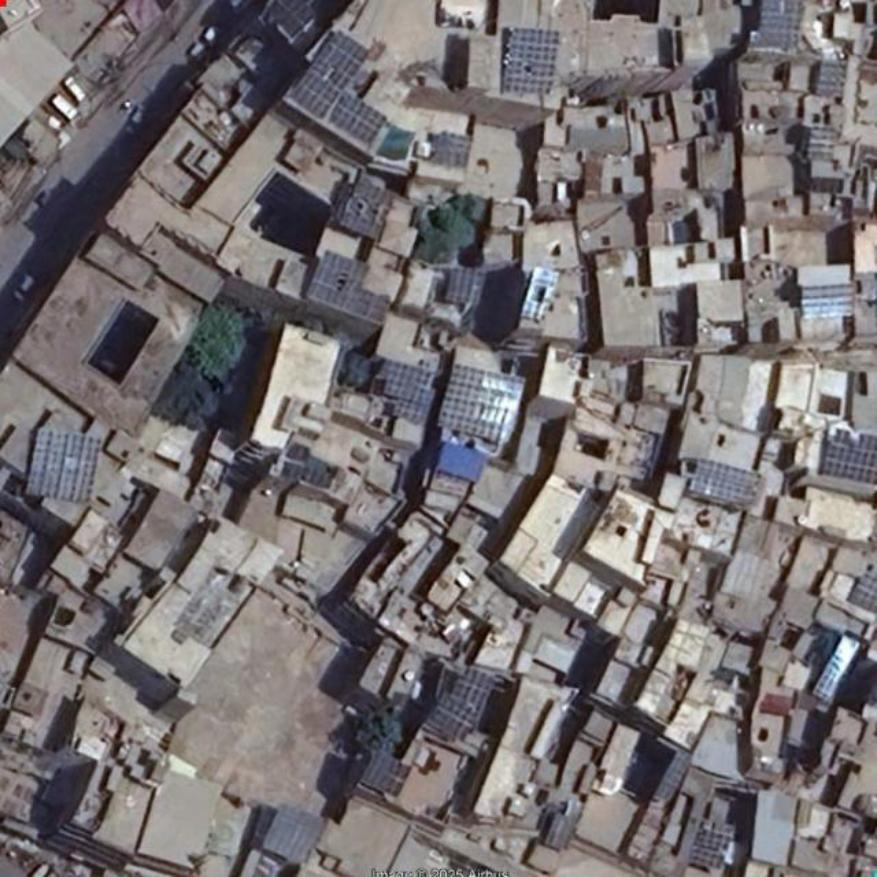Solarpanel: (436, 360, 524, 445), (290, 30, 368, 117), (306, 250, 401, 320), (24, 429, 101, 504), (429, 665, 496, 747), (363, 358, 444, 425), (688, 457, 761, 507), (504, 30, 562, 91), (820, 426, 876, 486), (329, 92, 388, 142), (754, 0, 802, 49), (364, 752, 414, 796), (692, 830, 732, 871), (432, 130, 473, 167), (446, 266, 486, 303), (815, 59, 849, 94), (849, 573, 876, 614)
